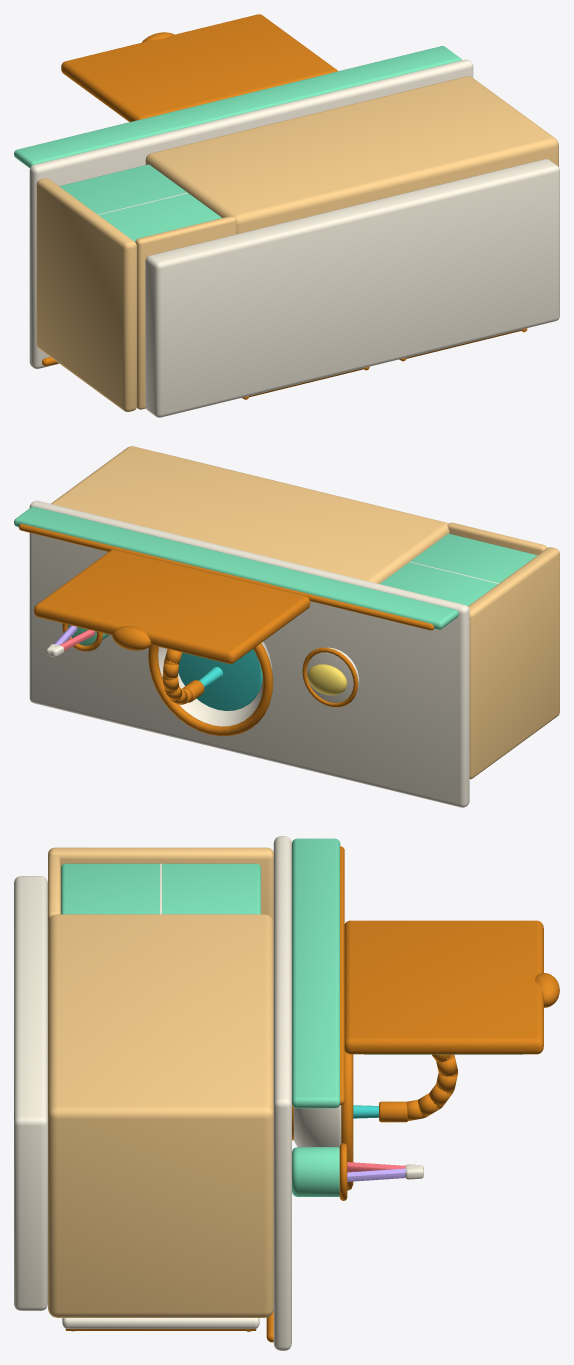
Rendered from BathroomVanitySink_Premium.fbx.
3 renders of one model, top to bottom at view 1: azimuth 30°, elevation 25°; view 2: azimuth 150°, elevation 25°; view 3: azimuth 270°, elevation 25°, orthographic. The views are drawn at different scales.
Parts seen in each view (by area): view 1: BathroomVanitySink; view 2: BathroomVanitySink; view 3: BathroomVanitySink.
Boxes of the visible parts, x1,y1,x2,y2 form: BathroomVanitySink: (14,14,559,417); BathroomVanitySink: (14,446,559,807); BathroomVanitySink: (14,836,559,1350).
Bounding box in the file's own units: 1.96 × 0.8635 × 1.69.
